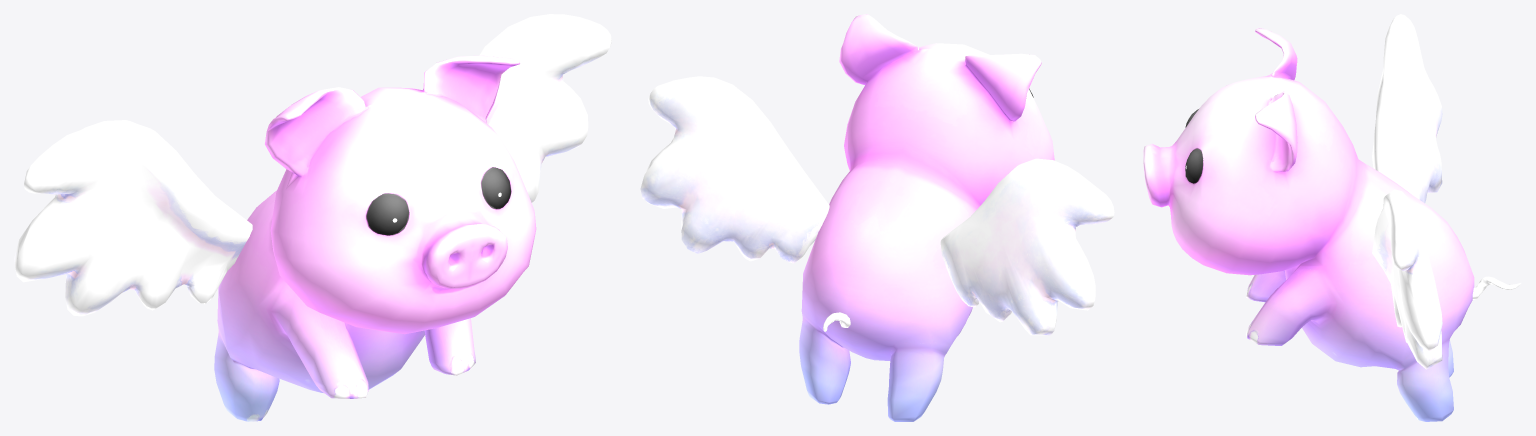
Rendered from violetPig.glb.
3 views of the same model, side by side, from view 1: azimuth 30°, elevation 25°; view 2: azimuth 150°, elevation 25°; view 3: azimuth 270°, elevation 25° (orthographic). The views are drawn at different scales.
Visible parts, largest first — view 1: Pig, WingLP; view 2: Pig, WingLP; view 3: Pig, WingLP, Tail.001.
Part boxes in pixels (x1=…): Pig: x1=214, y1=55, x2=536, y2=421; WingLP: x1=14, y1=14, x2=611, y2=316; Pig: x1=799, y1=14, x2=1054, y2=421; WingLP: x1=640, y1=76, x2=1114, y2=335; Pig: x1=1143, y1=28, x2=1474, y2=421; WingLP: x1=1372, y1=14, x2=1442, y2=369; Tail.001: x1=1472, y1=276, x2=1521, y2=299.
Size of the model in its own units: 4.16 by 2.7 by 2.8.
Materials: 3 (3 with a texture image).
